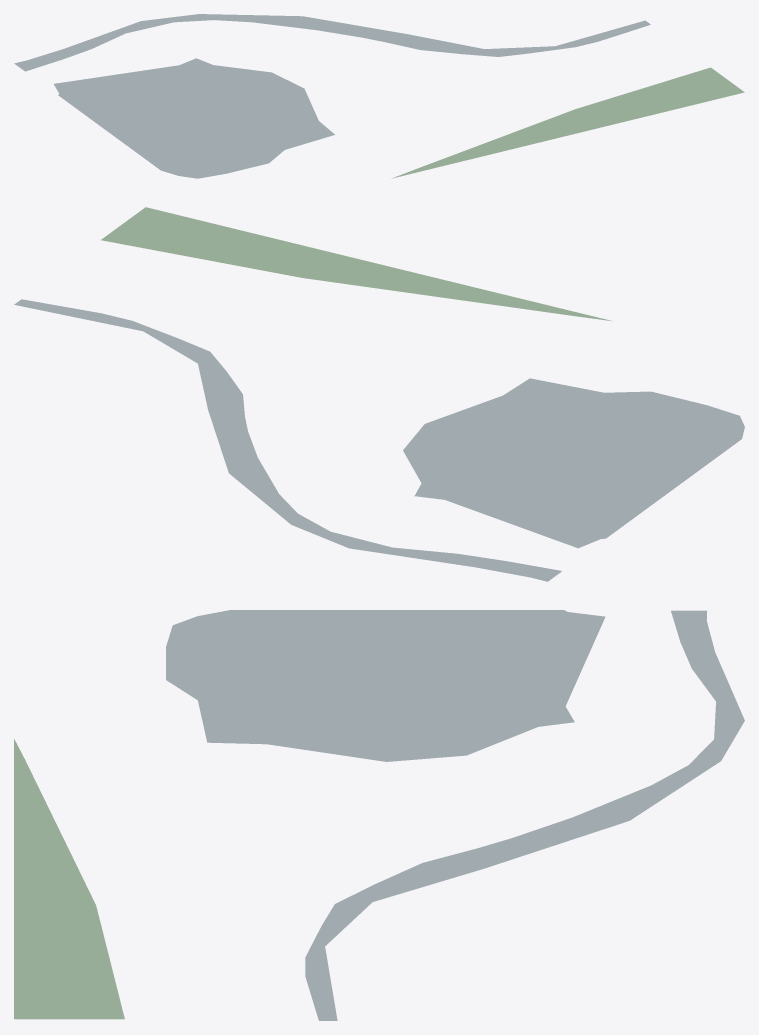
The model's file is 94_101_mid.glb.
3 renders of one model, top to bottom at view 1: azimuth 30°, elevation 25°; view 2: azimuth 150°, elevation 25°; view 3: azimuth 270°, elevation 25°, orthographic. The views are drawn at different scales.
Size of the model in its own units: 500 by 0.8836 by 377.
